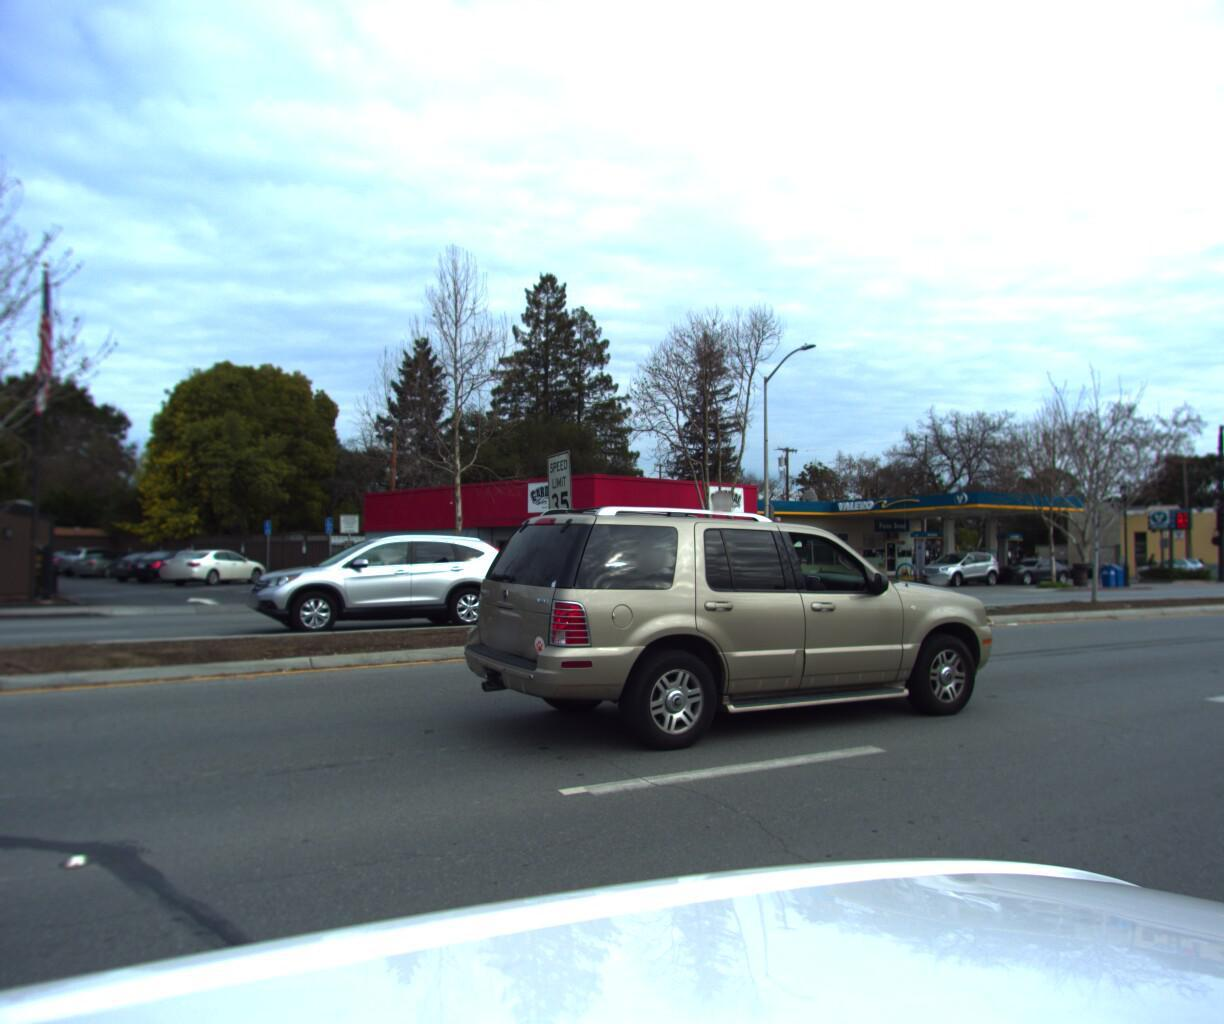car: (444, 500, 997, 777), (246, 527, 522, 636), (907, 545, 1004, 583), (982, 553, 1074, 581)
